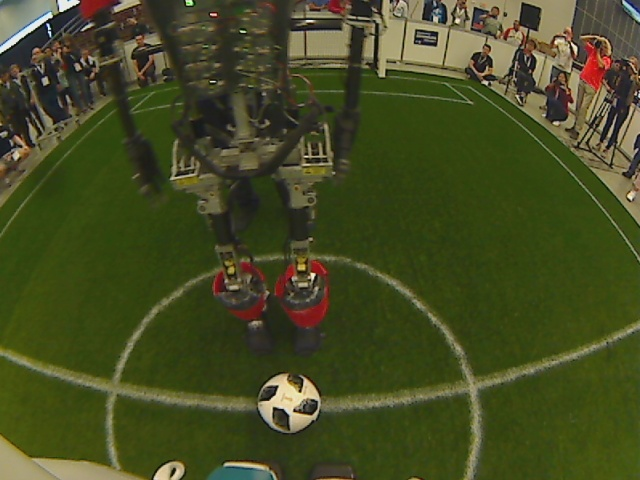ball: (254, 370, 325, 437)
